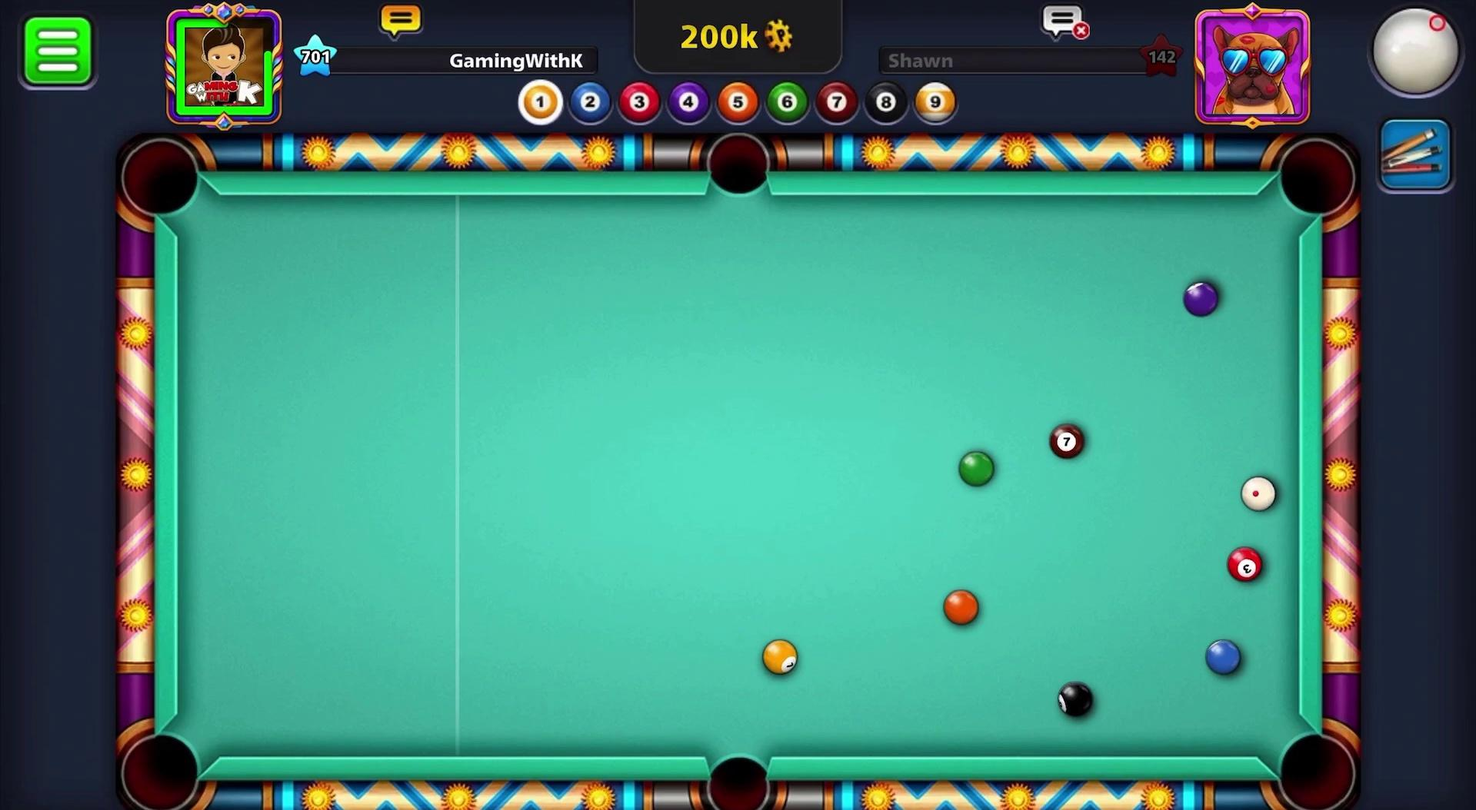Ball: (938, 583, 985, 633), (1051, 677, 1099, 723), (756, 634, 802, 682), (1202, 633, 1244, 681), (1183, 275, 1224, 320), (957, 443, 995, 490), (1048, 419, 1088, 459), (1228, 544, 1264, 583)
Hole: (108, 128, 213, 231), (1267, 132, 1364, 234), (110, 717, 213, 809), (1266, 716, 1363, 809), (681, 742, 785, 809), (701, 124, 777, 204)
Play_Area: (176, 192, 1299, 759)
Spin: (1341, 0, 1475, 115)
White: (1238, 470, 1281, 515)
